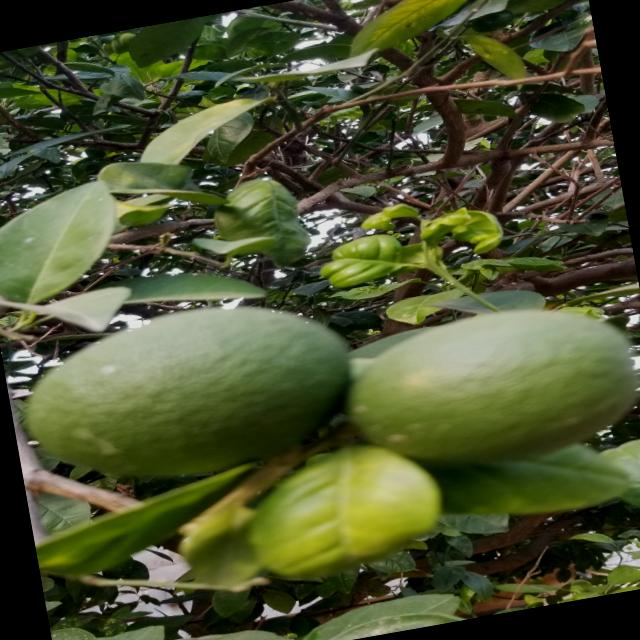Unripe: (2, 280, 374, 514), (335, 278, 640, 485)
